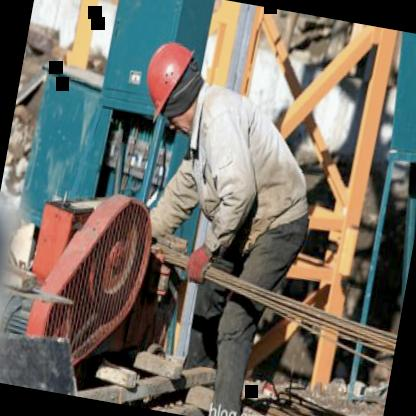helmet: (132, 31, 206, 136)
